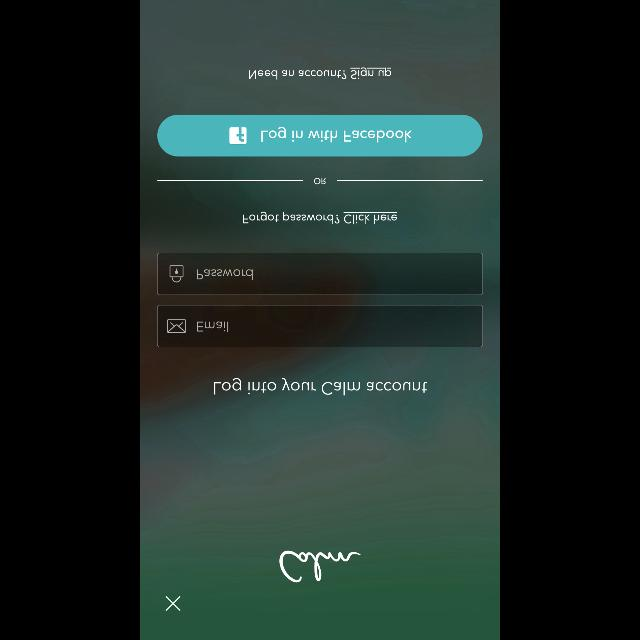icon: (168, 319, 186, 333), (170, 266, 184, 282), (166, 596, 180, 610)
image: (279, 550, 361, 582)
input: (158, 305, 482, 347), (158, 253, 482, 295)
text: (215, 378, 428, 396), (248, 66, 392, 80), (243, 212, 397, 224), (197, 268, 253, 280), (198, 322, 228, 332), (314, 178, 326, 185)
textbutton: (158, 115, 482, 157)
